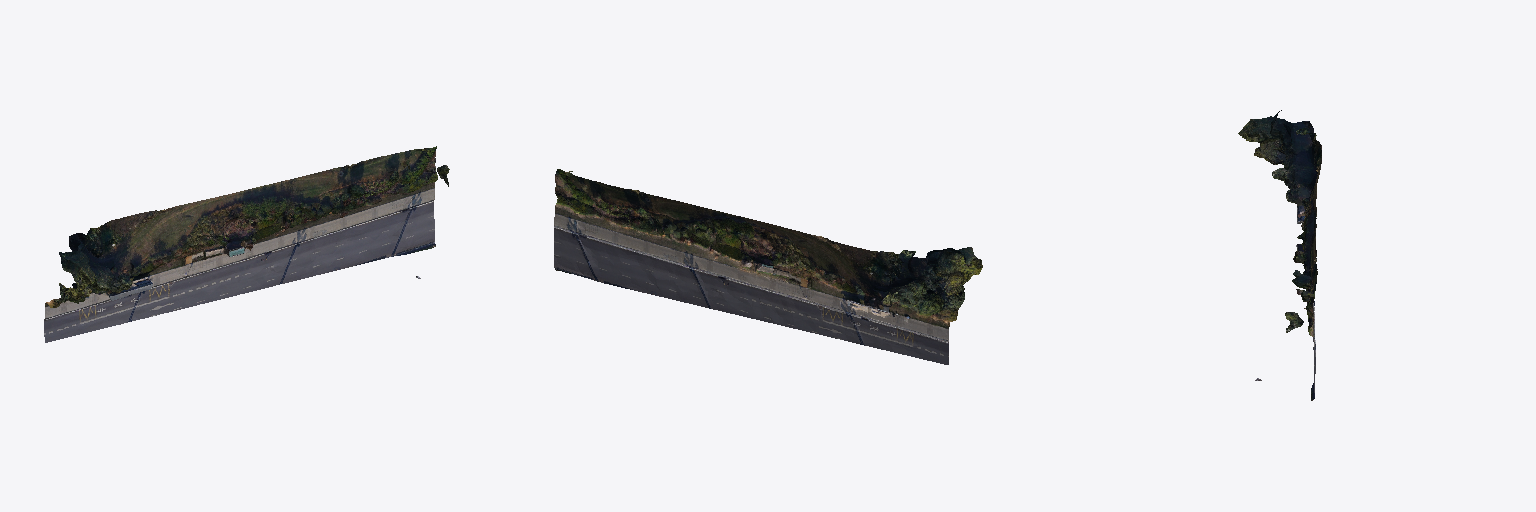
3 views of the same model, side by side, from view 1: azimuth 30°, elevation 25°; view 2: azimuth 150°, elevation 25°; view 3: azimuth 270°, elevation 25° (orthographic).
Bounding box in the file's own units: 100 × 24.76 × 18.55.
1 materials, 1 textured.